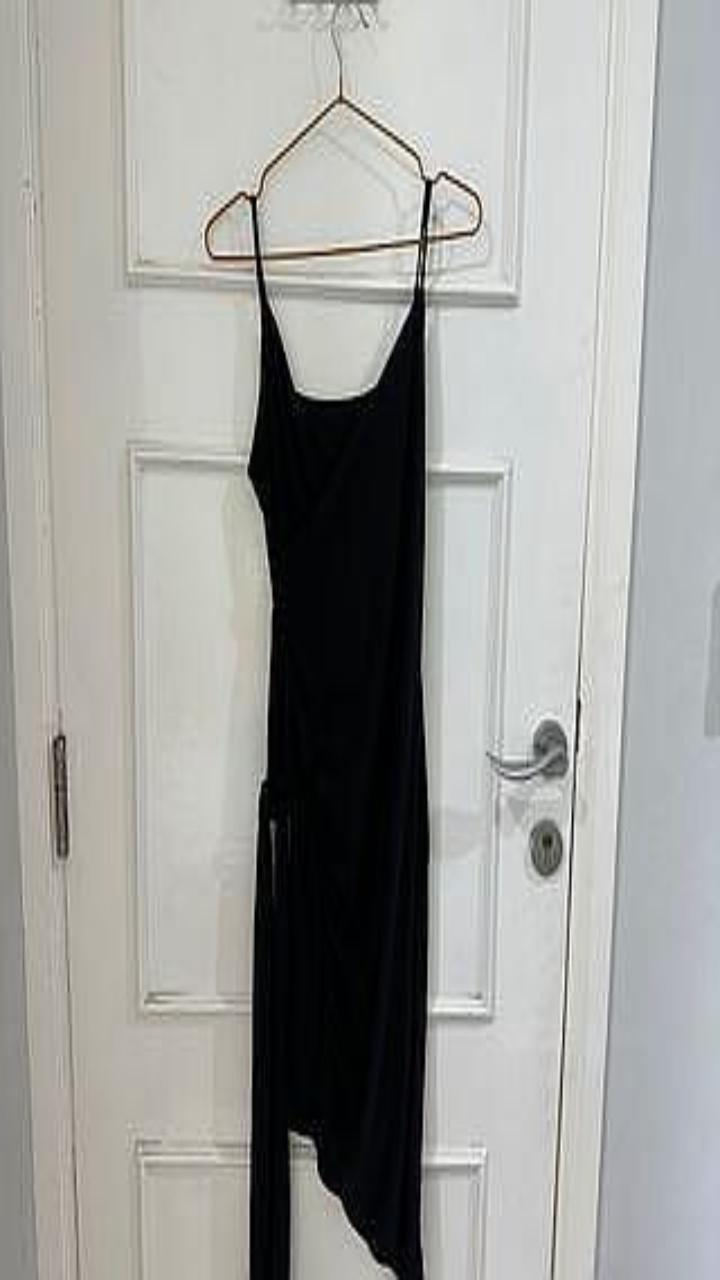Dresses: (248, 180, 431, 1279)
